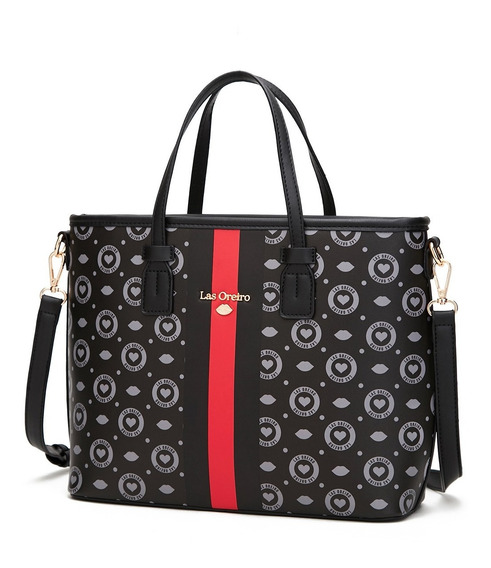cartera: (24, 70, 463, 524)
